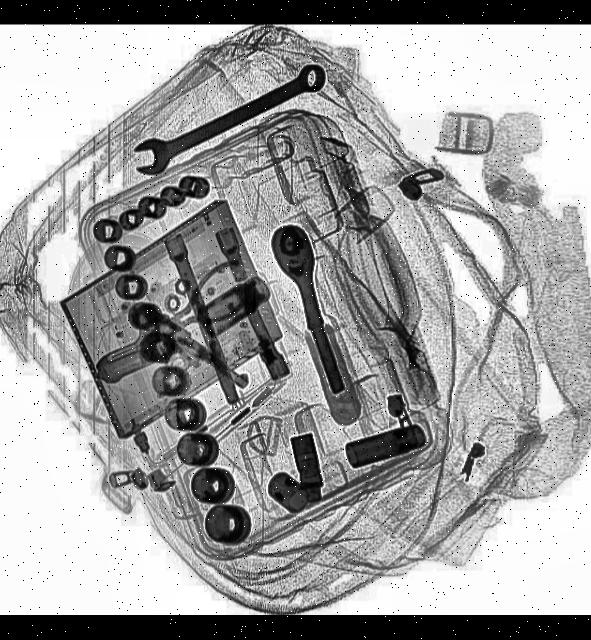Gun: (91, 302, 254, 447)
Pliers: (140, 256, 260, 359)
Wrench: (126, 54, 330, 183)
